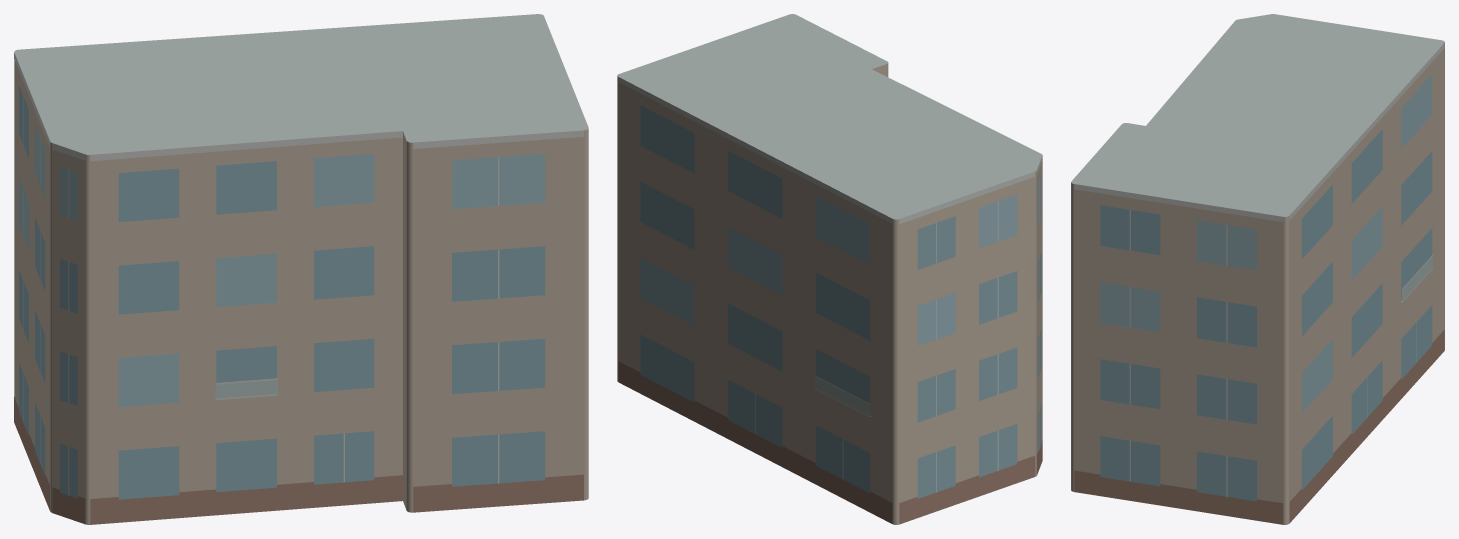
Rendered from survey-upis-32525633.glb.
3 views of the same model, side by side, from view 1: azimuth 30°, elevation 25°; view 2: azimuth 150°, elevation 25°; view 3: azimuth 270°, elevation 25° (orthographic). The views are drawn at different scales.
Parts seen in each view (by area): view 1: survey-upis-32525633.tmp; view 2: survey-upis-32525633.tmp; view 3: survey-upis-32525633.tmp.
Boxes of the visible parts, box(x1,y1,x2,y2) form: survey-upis-32525633.tmp: box(14, 14, 588, 524); survey-upis-32525633.tmp: box(617, 14, 1042, 524); survey-upis-32525633.tmp: box(1071, 14, 1444, 524).
Bounding box in the file's own units: 19.94 × 14.11 × 15.51.
